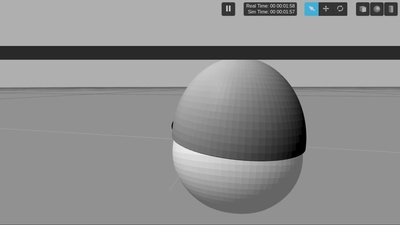mira_robot: (170, 59, 307, 214)
